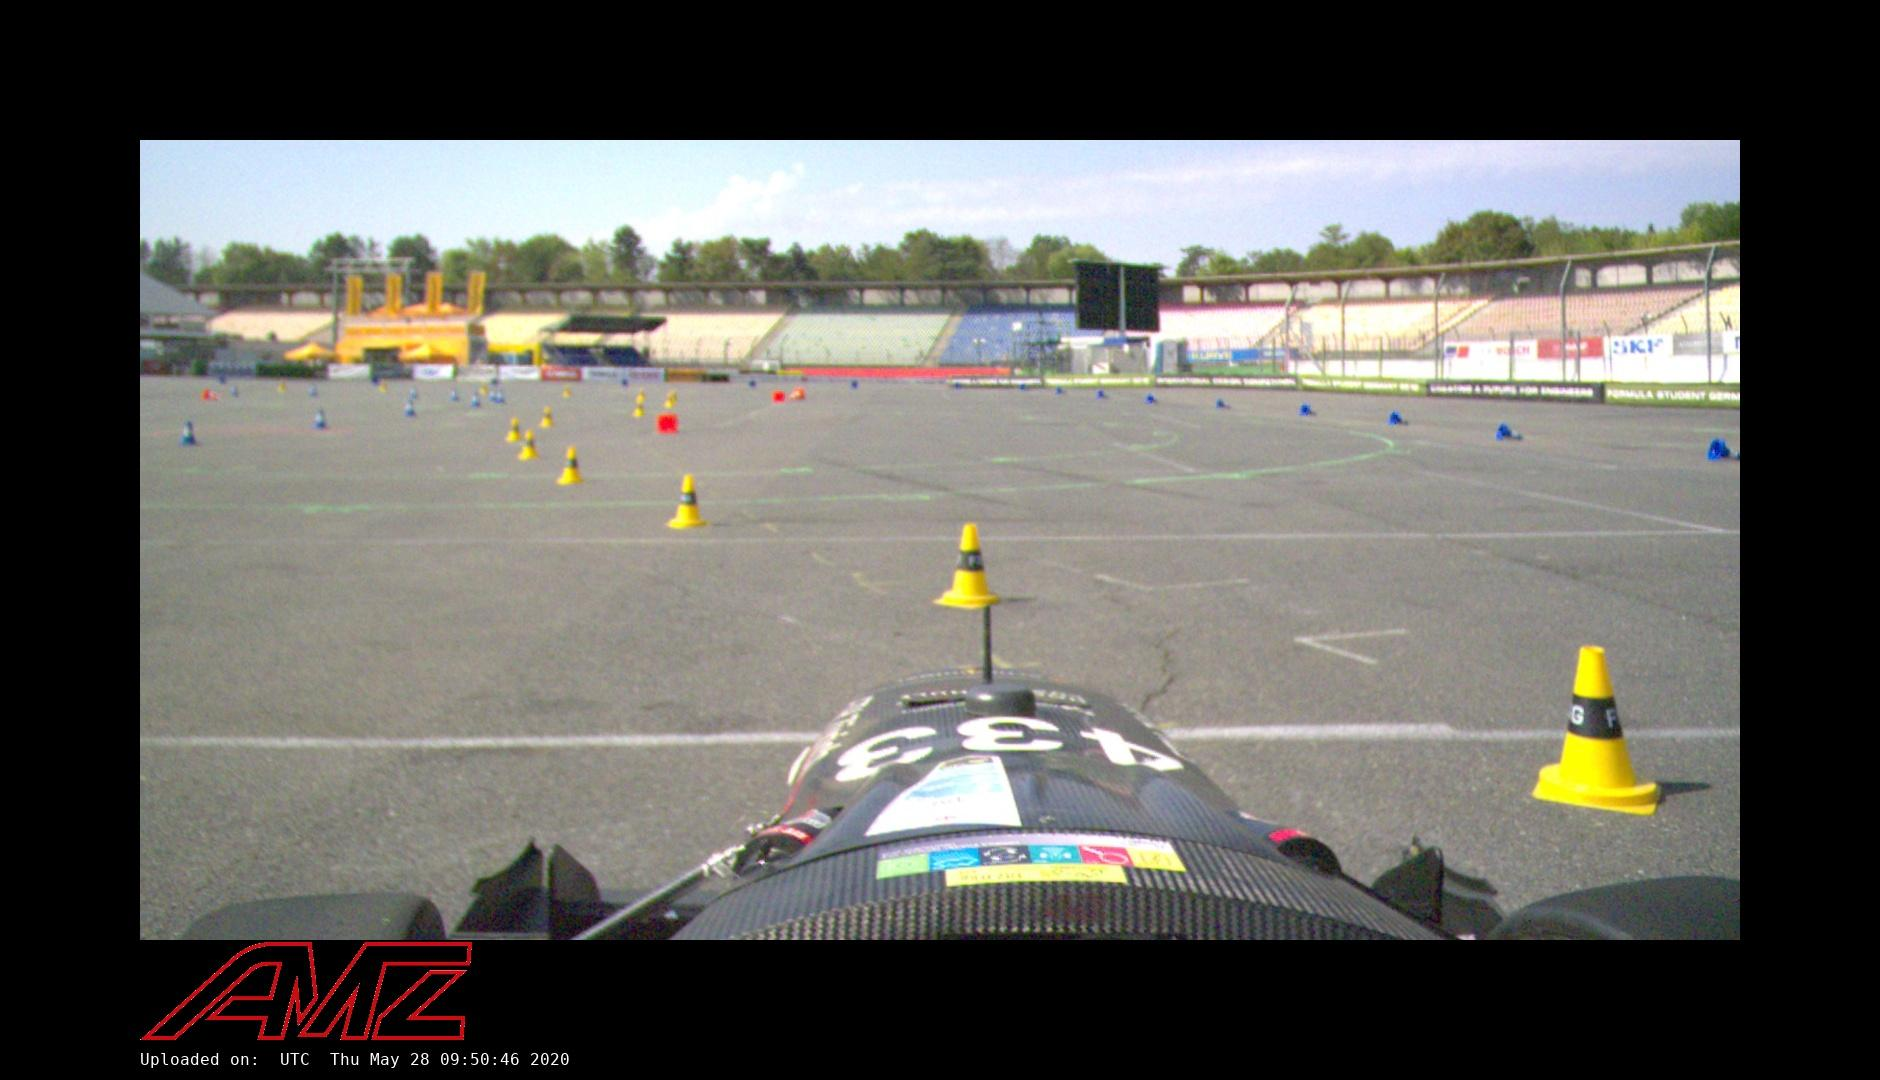blue_cone: (1704, 437, 1739, 462), (1495, 422, 1525, 442), (178, 420, 199, 446), (311, 406, 331, 429), (402, 397, 420, 419), (1387, 411, 1409, 426), (1298, 403, 1317, 417), (1214, 397, 1232, 410), (469, 391, 482, 407), (495, 388, 505, 403), (451, 388, 460, 402), (489, 389, 498, 402)
orange_cone: (656, 413, 680, 434), (200, 388, 227, 404), (788, 388, 806, 403), (772, 390, 788, 404)
yellow_cone: (1530, 645, 1664, 816), (934, 524, 1003, 608), (664, 474, 711, 530), (557, 447, 585, 486), (516, 430, 541, 461), (504, 419, 523, 442), (538, 406, 555, 428), (631, 400, 647, 419)
